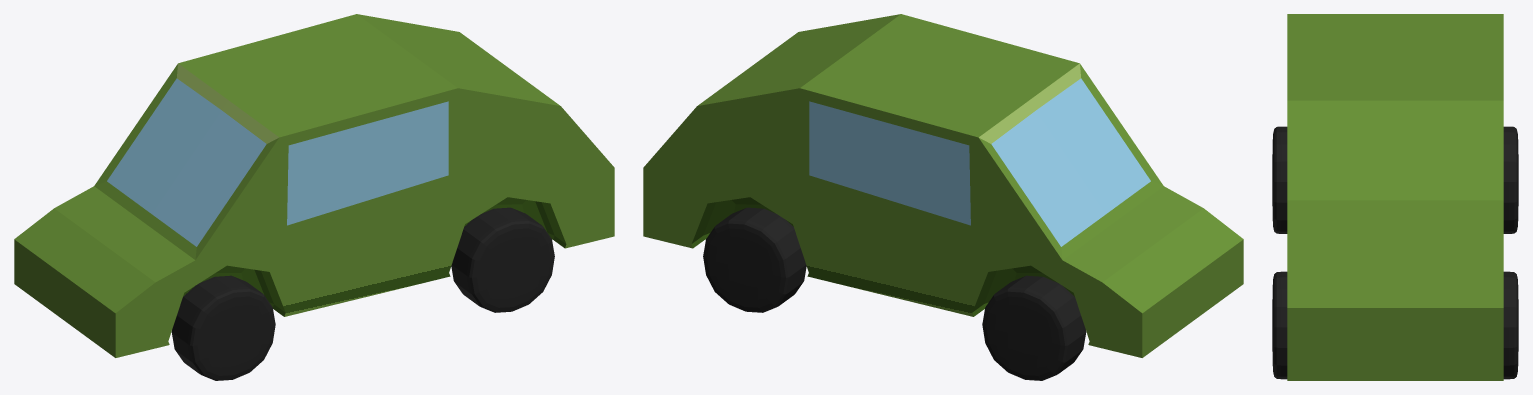
Rendered from low_poly_car_textured.fbx.
3 renders of one model, left to right at view 1: azimuth 30°, elevation 25°; view 2: azimuth 150°, elevation 25°; view 3: azimuth 270°, elevation 25°, orthographic. The views are drawn at different scales.
Parts seen in each view (by area): view 1: car frame, wheels; view 2: car frame, wheels; view 3: car frame, wheels.
Part boxes in pixels (bbox=[...]): car frame: bbox=[14, 14, 614, 357]; wheels: bbox=[171, 207, 554, 380]; car frame: bbox=[643, 14, 1243, 357]; wheels: bbox=[703, 207, 1086, 380]; car frame: bbox=[1287, 14, 1503, 380]; wheels: bbox=[1272, 126, 1518, 379].
Bounding box in the file's own units: 780 × 346 × 313.
Materials: 1 (1 with a texture image).
